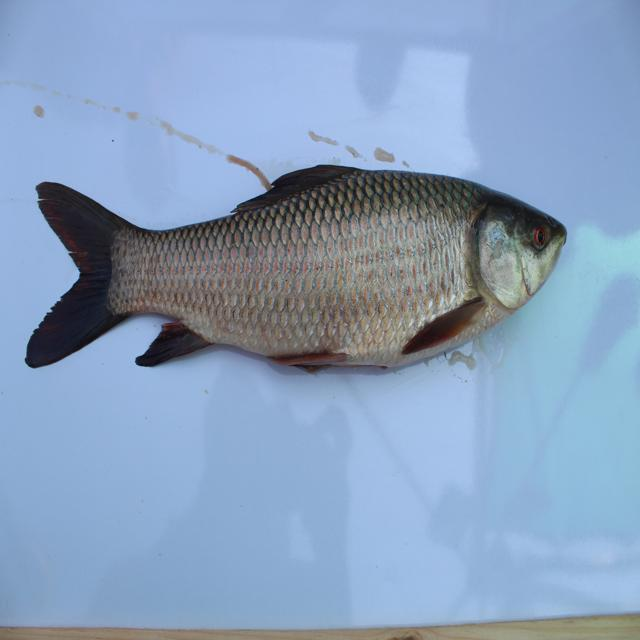Rohu: (27, 147, 569, 398)
